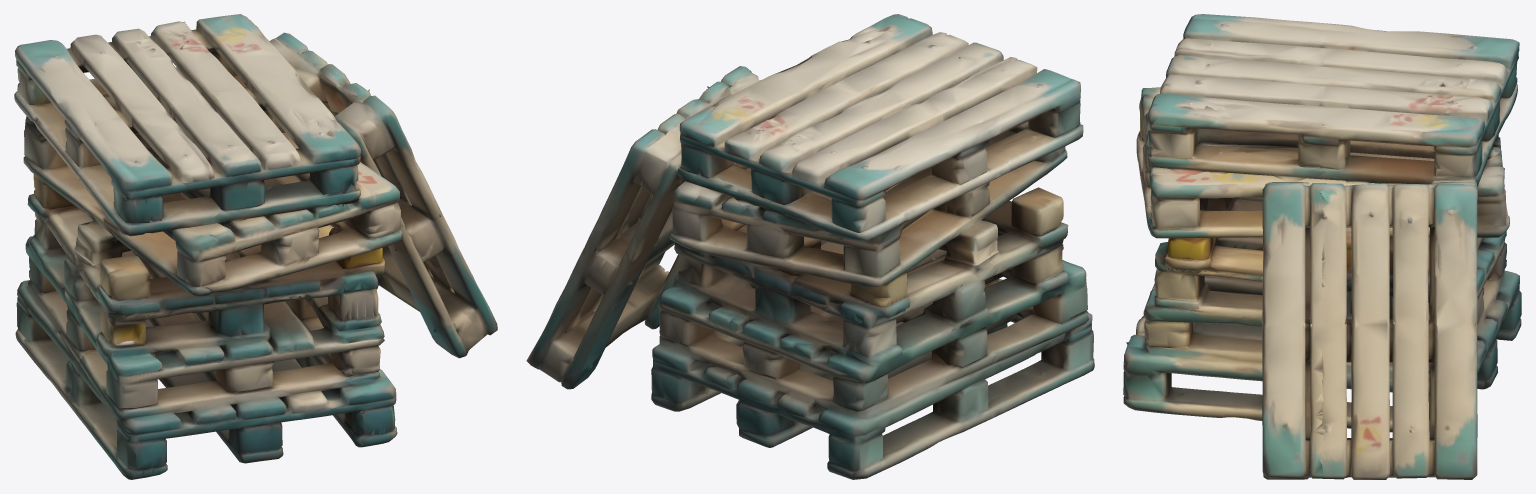
Rendered from pallet_stack.glb.
3 renders of one model, left to right at view 1: azimuth 30°, elevation 25°; view 2: azimuth 150°, elevation 25°; view 3: azimuth 270°, elevation 25°, orthographic. The views are drawn at different scales.
Parts seen in each view (by area): view 1: tripo_part_2, tripo_part_0, tripo_part_1, tripo_part_3, tripo_part_4, tripo_part_5, tripo_part_6, tripo_part_7; view 2: tripo_part_2, tripo_part_0, tripo_part_1, tripo_part_3, tripo_part_4, tripo_part_5, tripo_part_6; view 3: tripo_part_4, tripo_part_2, tripo_part_1, tripo_part_0, tripo_part_3, tripo_part_5, tripo_part_7.
Boxes of the visible parts, x1,y1,x2,y2 form: tripo_part_2: [15, 14, 361, 223]; tripo_part_0: [25, 194, 384, 407]; tripo_part_1: [15, 280, 397, 479]; tripo_part_3: [23, 116, 402, 296]; tripo_part_4: [269, 32, 497, 358]; tripo_part_5: [14, 67, 360, 236]; tripo_part_6: [100, 255, 150, 300]; tripo_part_7: [329, 228, 382, 268]; tripo_part_2: [678, 14, 1080, 232]; tripo_part_0: [658, 201, 1087, 411]; tripo_part_1: [651, 278, 1094, 479]; tripo_part_3: [669, 130, 1067, 307]; tripo_part_4: [526, 66, 760, 389]; tripo_part_5: [677, 118, 1083, 241]; tripo_part_6: [1011, 187, 1063, 236]; tripo_part_4: [1262, 178, 1477, 479]; tripo_part_2: [1148, 14, 1519, 180]; tripo_part_1: [1123, 270, 1521, 432]; tripo_part_0: [1143, 197, 1506, 371]; tripo_part_3: [1136, 87, 1509, 273]; tripo_part_5: [1148, 84, 1517, 185]; tripo_part_7: [1168, 238, 1213, 259].
Size of the model in its own units: 0.9799 by 0.6675 by 0.8273.
Materials: 1 (1 with a texture image).
